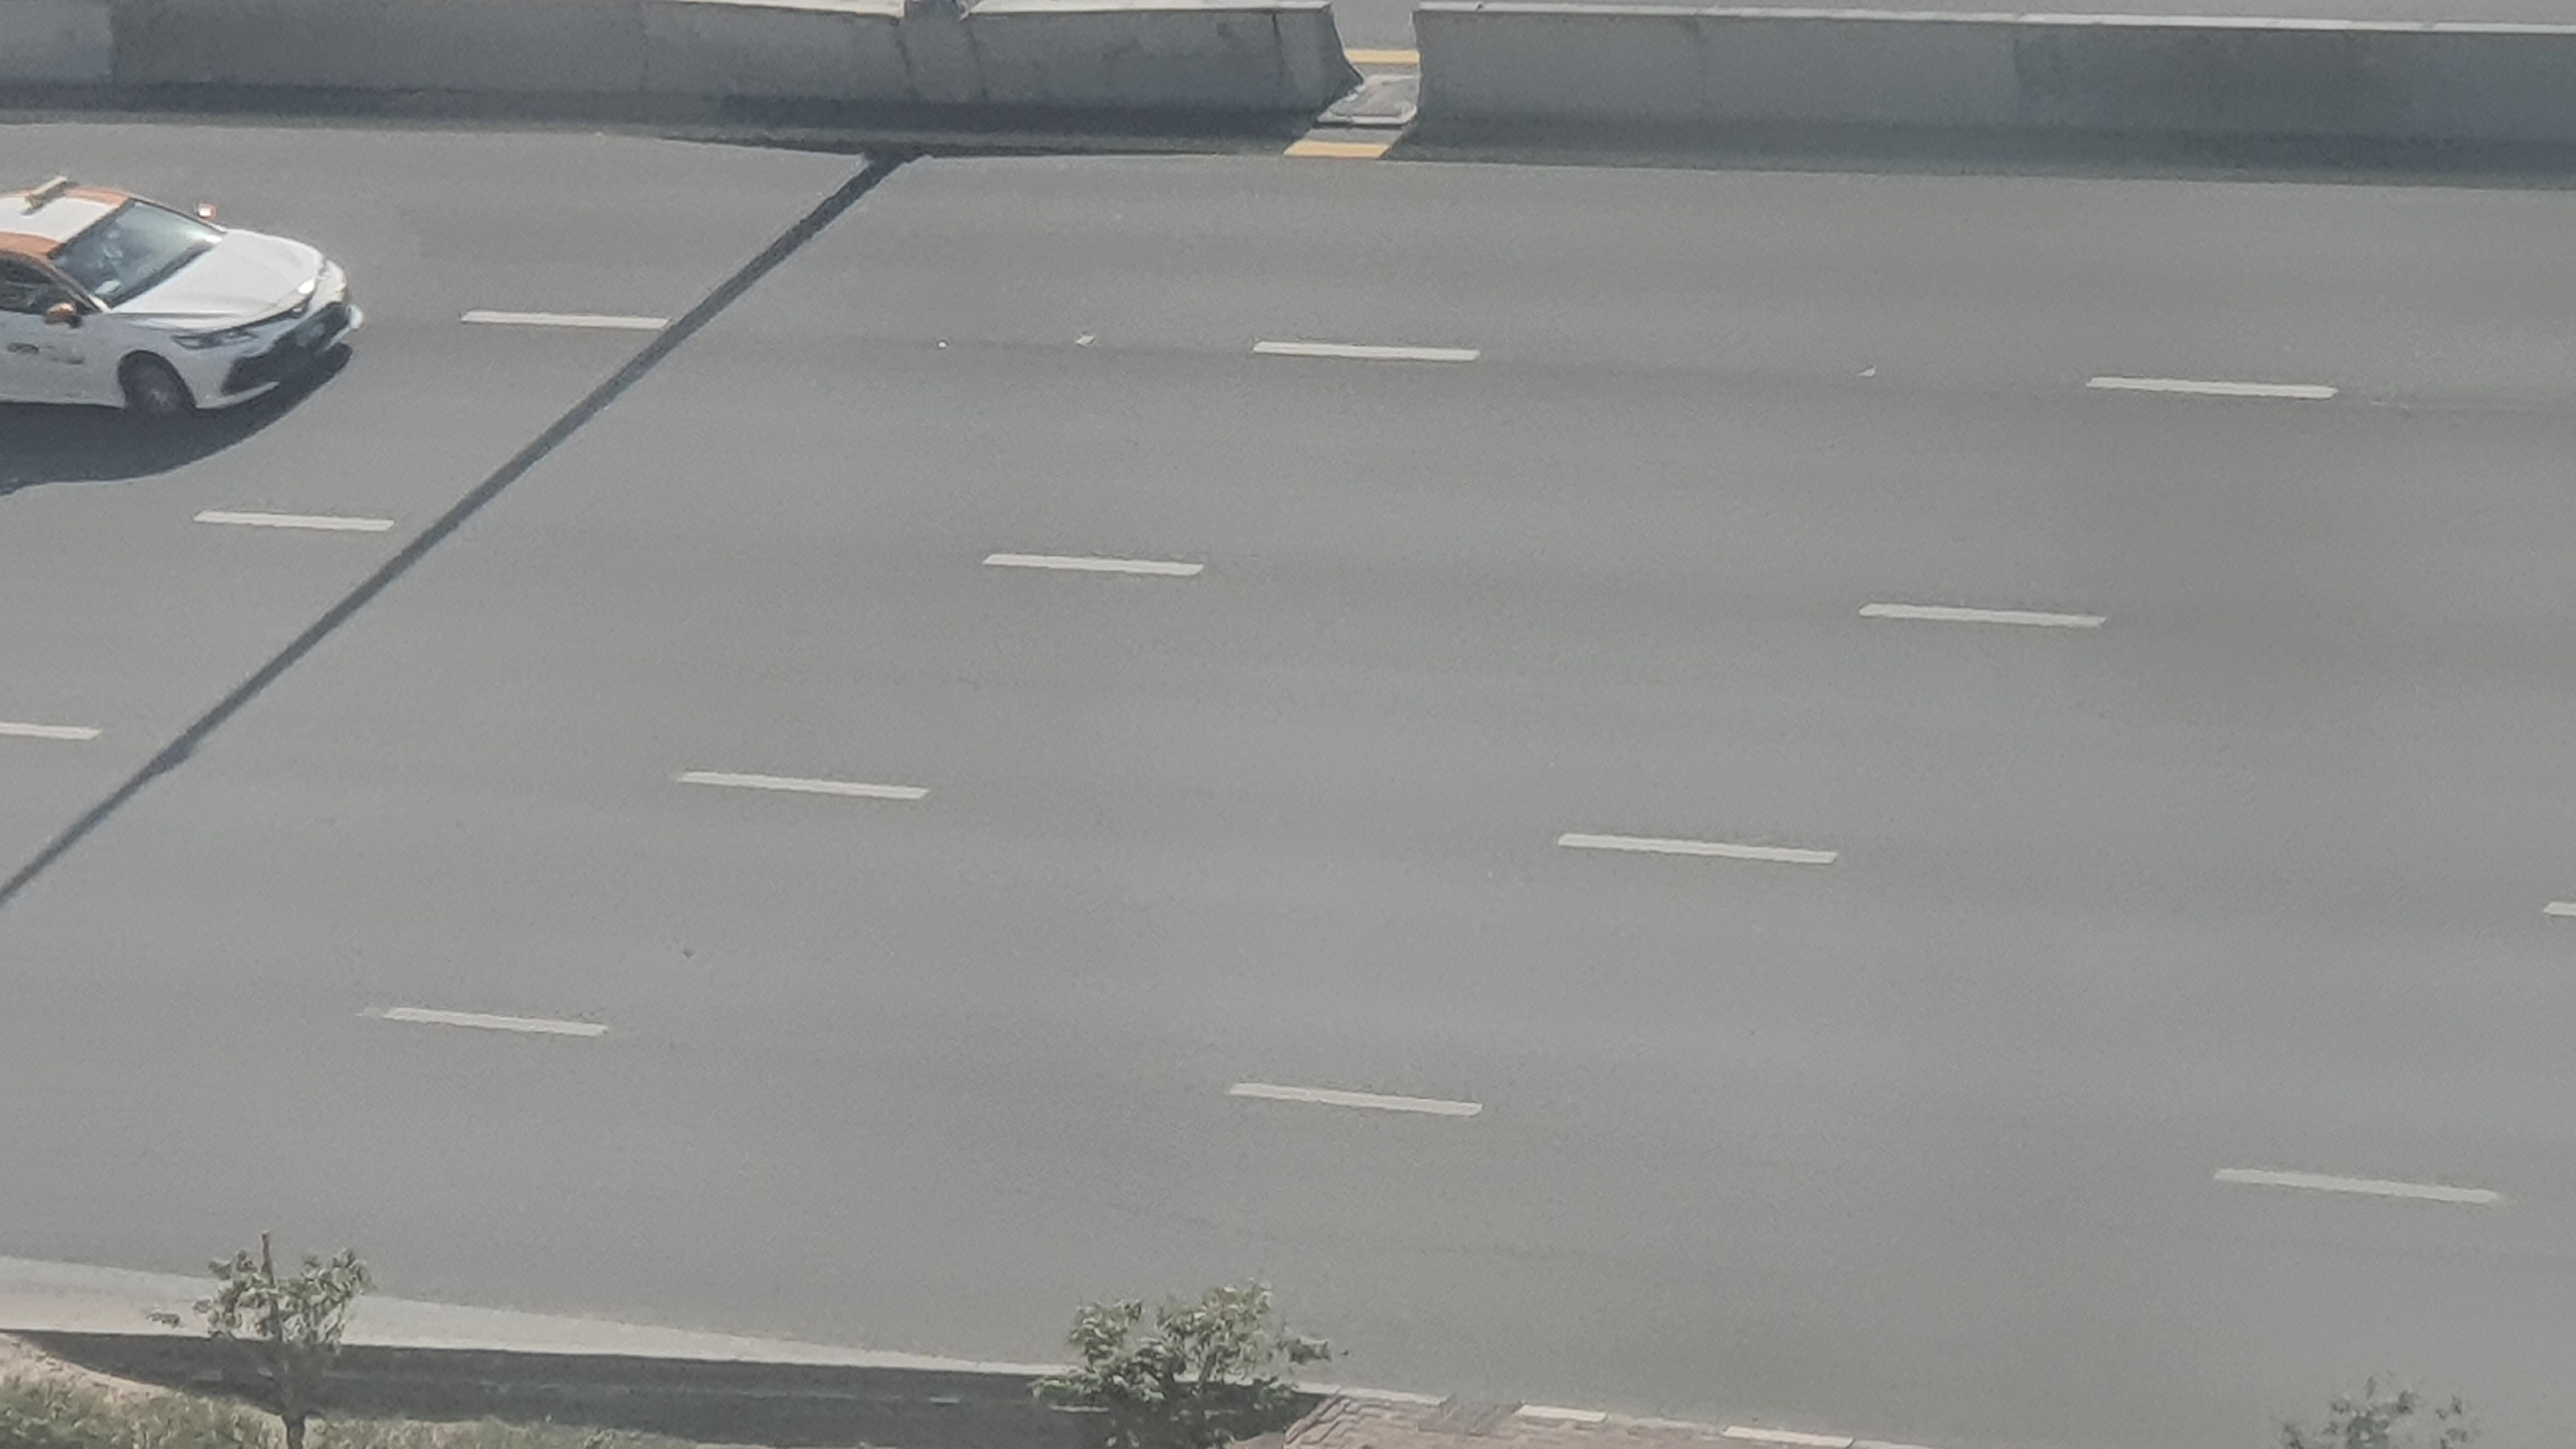NotSunroof: (0, 172, 361, 426)
